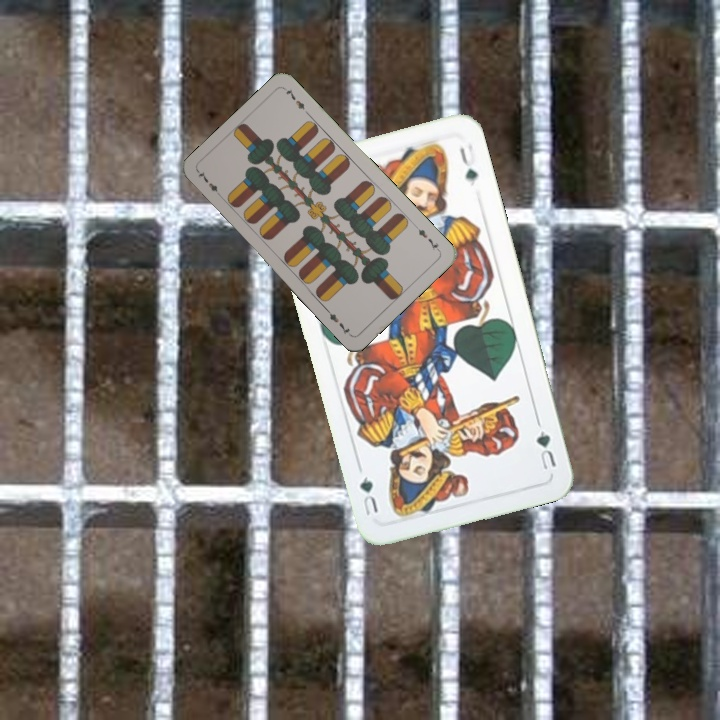E7: (411, 221, 443, 254), (194, 167, 225, 200)
GU: (532, 426, 559, 472)
